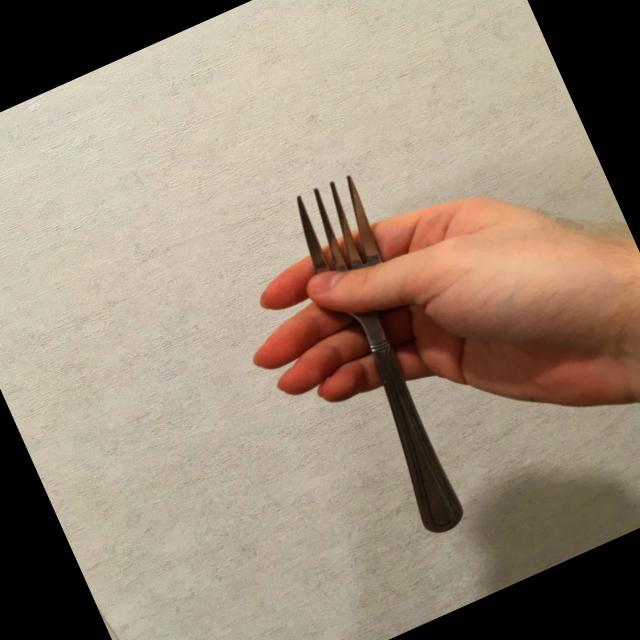fork: (280, 171, 502, 539)
